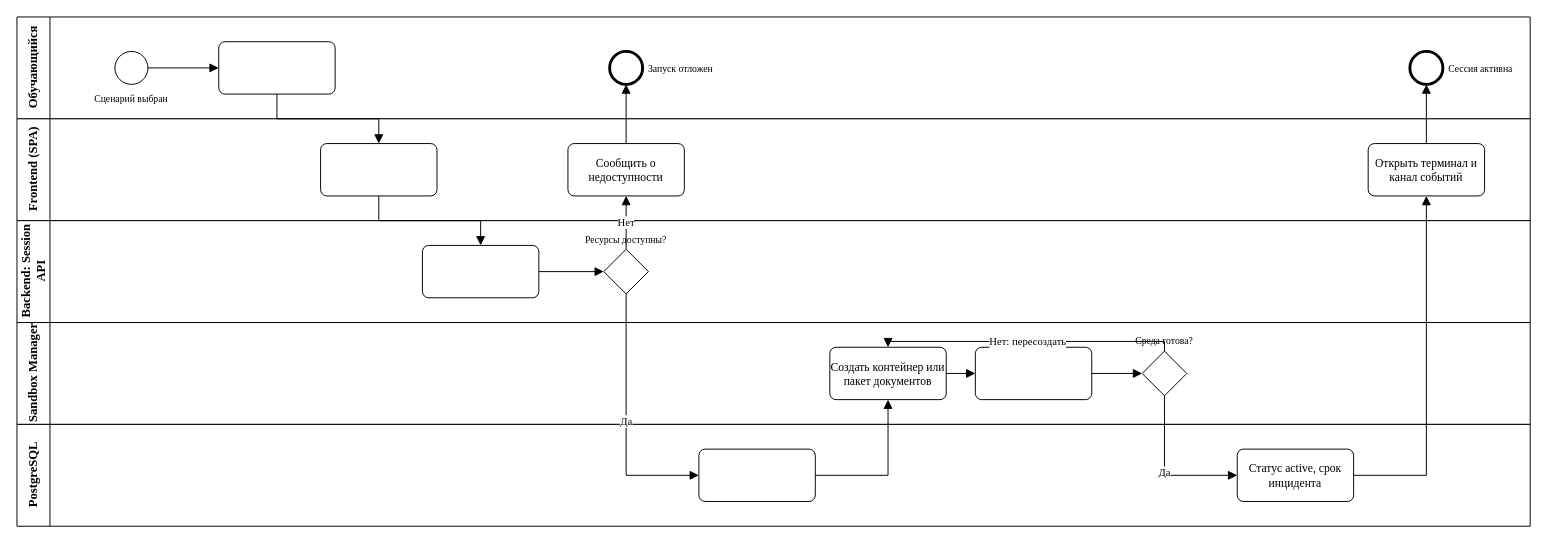
This 1551x543 diagram has some shape labels left out. Each missing label, with the centre of its shape:
"POST /api/sessions" goes at point (378, 169).
"Начать выполнение" goes at point (276, 67).
"Применить начальный сбой" goes at point (1033, 373).
"Проверить доступ и лимит сессий" goes at point (480, 271).
"Создать сессию (created, trace_id)" goes at point (756, 474).
